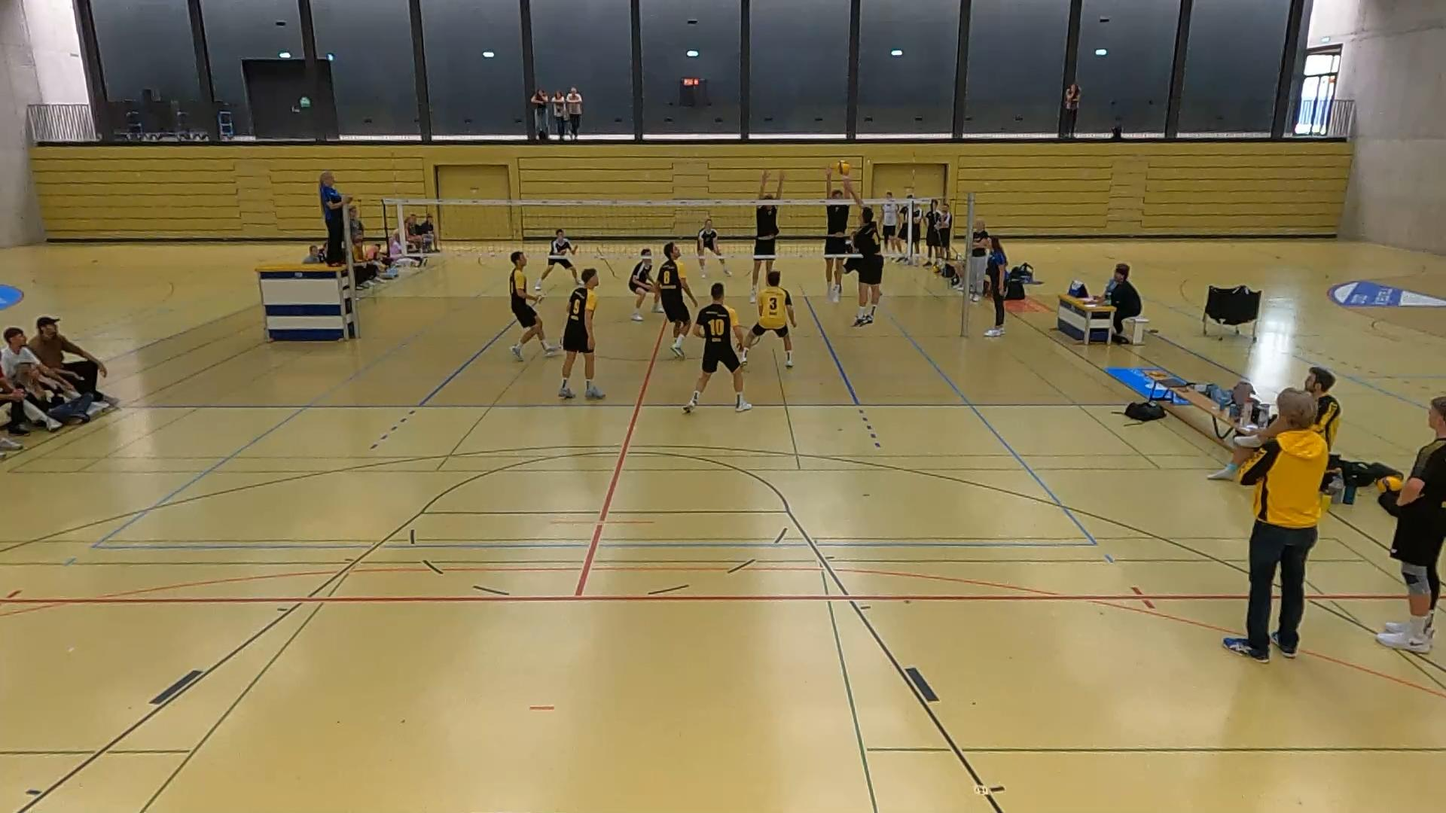attacco: (833, 176, 884, 334)
muro: (746, 168, 791, 303), (816, 163, 853, 301)
